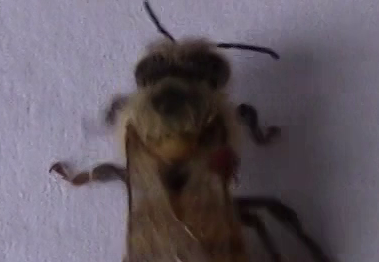Varroa destructor: (210, 143, 242, 180)
